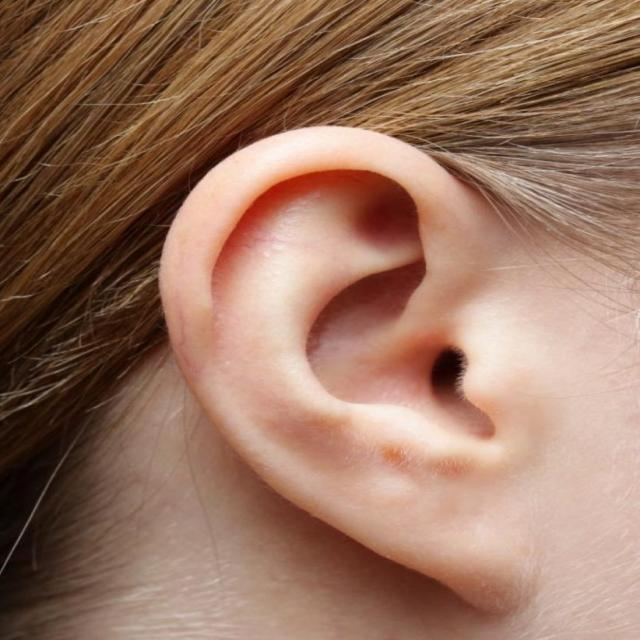earlobe: (158, 127, 552, 619)
